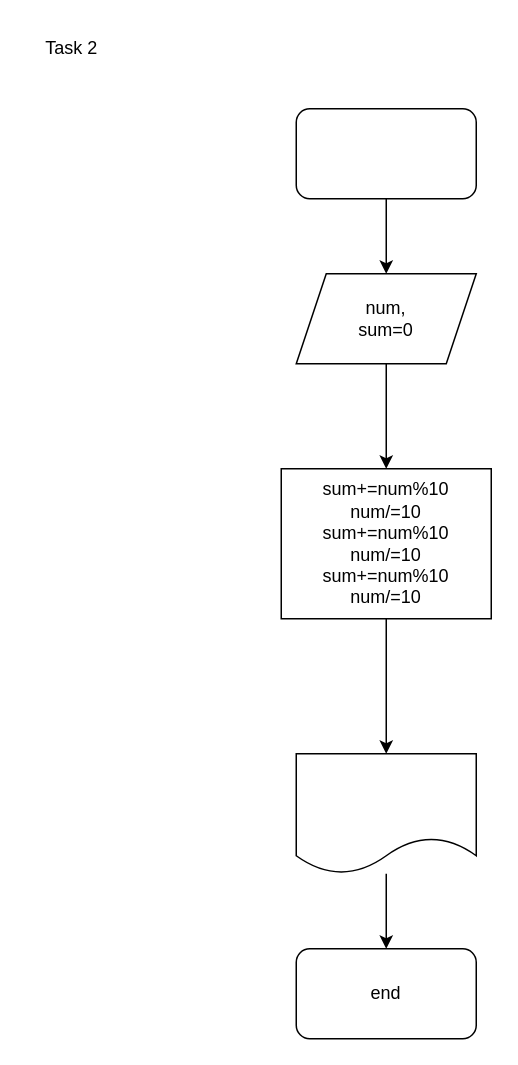
Some shapes in this 518 by 1065 pixel diagram are drawn without their labels. Each missing label, with the box of its shape:
Start: (295, 107, 476, 199)
sum: (295, 752, 476, 874)
